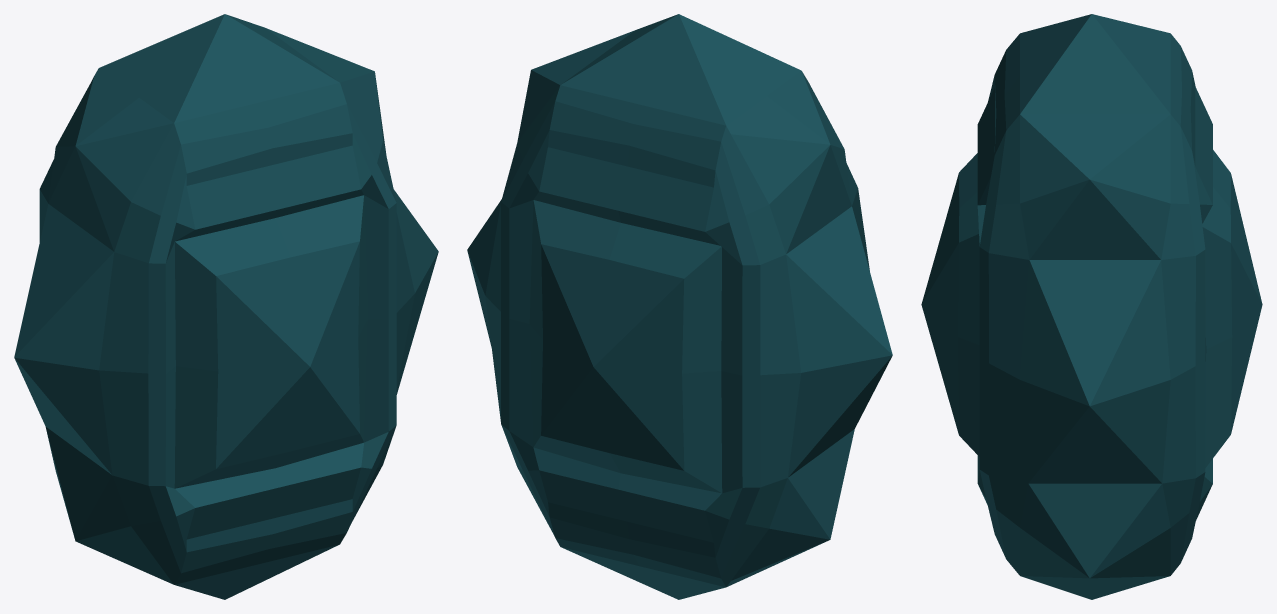
The model's file is gem.fbx.
3 views of the same model, side by side, from view 1: azimuth 30°, elevation 25°; view 2: azimuth 150°, elevation 25°; view 3: azimuth 270°, elevation 25° (orthographic).
Parts seen in each view (by area): view 1: pCube7; view 2: pCube7; view 3: pCube7.
Part boxes in pixels (x1=…): pCube7: x1=14, y1=14, x2=438, y2=599; pCube7: x1=467, y1=14, x2=892, y2=599; pCube7: x1=921, y1=14, x2=1262, y2=599.
Bounding box in the file's own units: 1.8 × 2.36 × 1.25.
